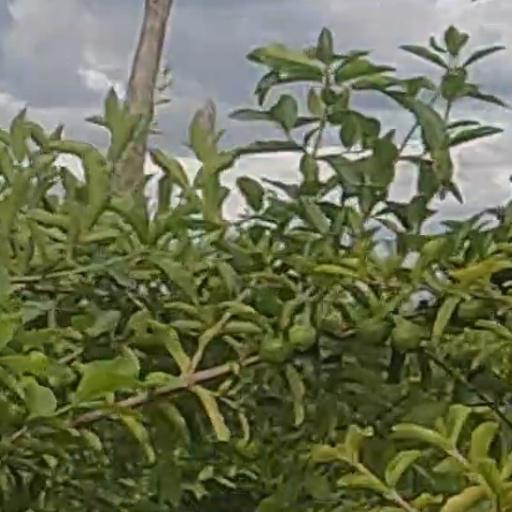acerola: (394, 321, 417, 350), (289, 326, 314, 352)
